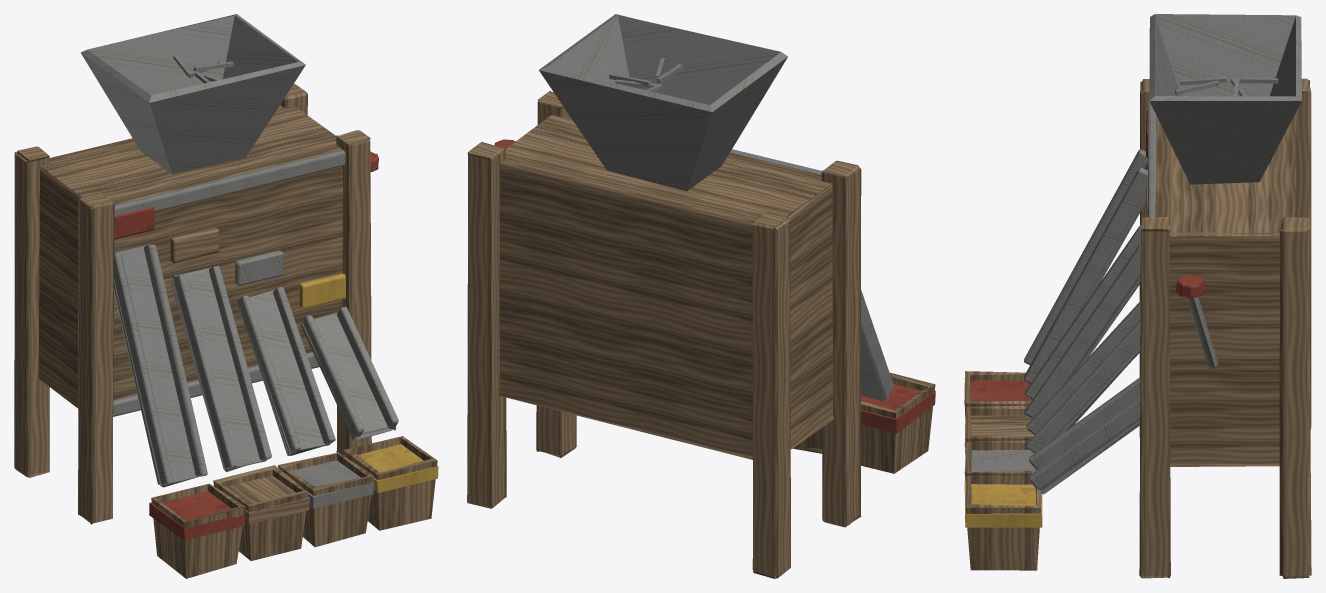
The model's file is needle_type_splitter.glb.
3 views of the same model, side by side, from view 1: azimuth 30°, elevation 25°; view 2: azimuth 150°, elevation 25°; view 3: azimuth 270°, elevation 25° (orthographic). The views are drawn at different scales.
Parts seen in each view (by area): view 1: NeedleTypeSplitter; view 2: NeedleTypeSplitter; view 3: NeedleTypeSplitter.
Part boxes in pixels (box(x1,y1,x2,y2)): NeedleTypeSplitter: box(14, 14, 438, 578); NeedleTypeSplitter: box(467, 14, 935, 578); NeedleTypeSplitter: box(964, 14, 1311, 578).
Size of the model in its own units: 1.89 by 2.39 by 1.66.
4 materials, 4 textured.
